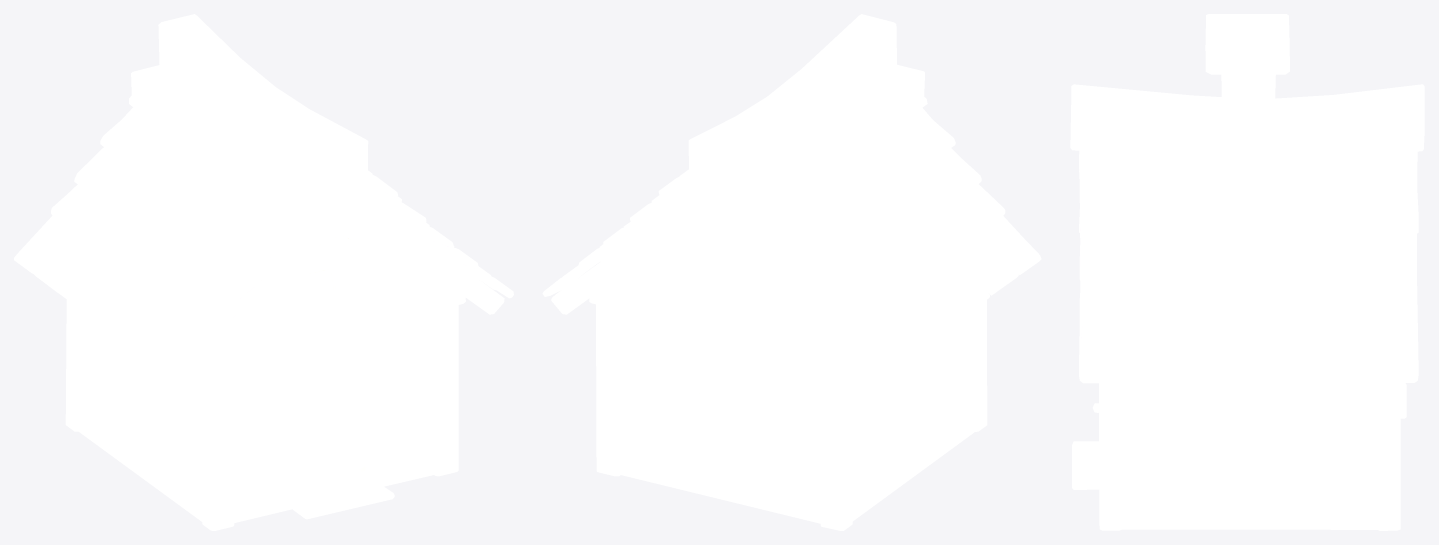
File: casinha-aconchego.glb
3 views of the same model, side by side, from view 1: azimuth 30°, elevation 25°; view 2: azimuth 150°, elevation 25°; view 3: azimuth 270°, elevation 25° (orthographic). The views are drawn at different scales.
Parts seen in each view (by area): view 1: mesh_node; view 2: mesh_node; view 3: mesh_node.
Boxes of the visible parts, box(x1,y1,x2,y2) form: mesh_node: box(14, 14, 513, 530); mesh_node: box(542, 14, 1041, 530); mesh_node: box(1070, 14, 1424, 530).
Size of the model in its own units: 0.9199 by 1 by 0.8066.
1 material, 1 textured.
